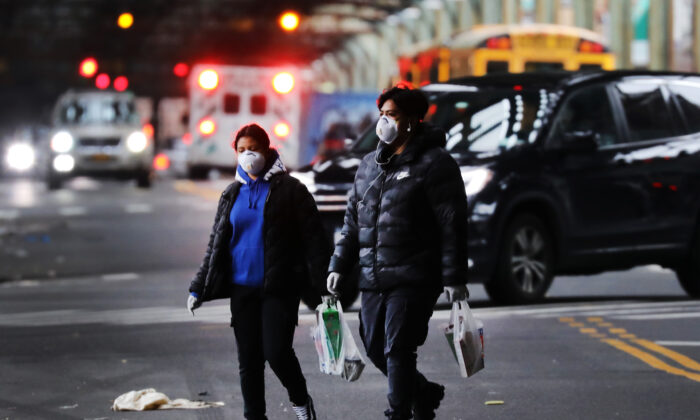person: (323, 75, 482, 420), (182, 115, 331, 420)
